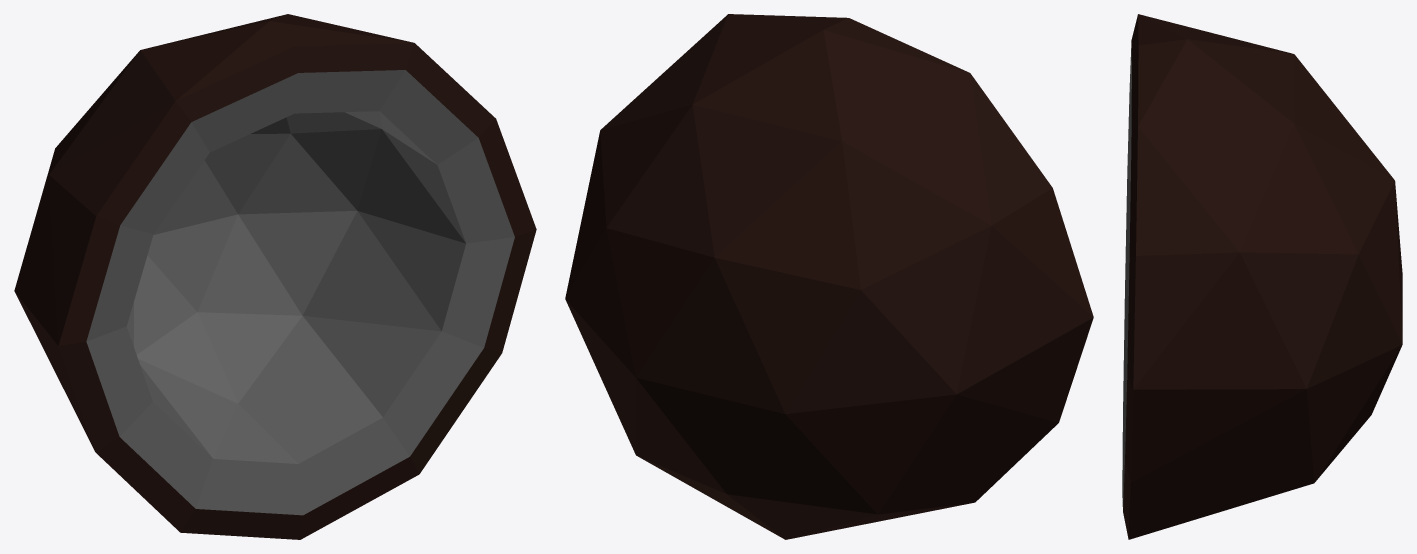
The model's file is Coconut_Half.obj.
The picture shows the model from 3 angles, left to right: view 1: azimuth 30°, elevation 25°; view 2: azimuth 150°, elevation 25°; view 3: azimuth 270°, elevation 25°; orthographic projection. The views are drawn at different scales.
Parts seen in each view (by area): view 1: Coconut_Half_Icosphere.002; view 2: Coconut_Half_Icosphere.002; view 3: Coconut_Half_Icosphere.002.
Boxes of the visible parts, left/top/right/bottom form: Coconut_Half_Icosphere.002: left=14, top=14, right=536, bottom=539; Coconut_Half_Icosphere.002: left=565, top=14, right=1093, bottom=539; Coconut_Half_Icosphere.002: left=1122, top=14, right=1402, bottom=539.
Size of the model in its own units: 0.7836 by 0.7769 by 0.412.
